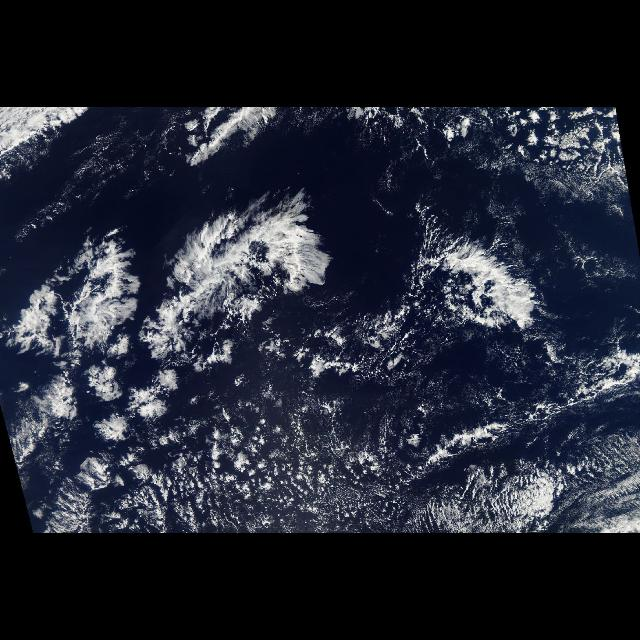Fish: (5, 180, 568, 378)
Flower: (38, 338, 236, 492)
Gravel: (47, 385, 453, 533), (333, 107, 631, 193)
Sugar: (239, 397, 639, 533), (454, 111, 634, 213)
